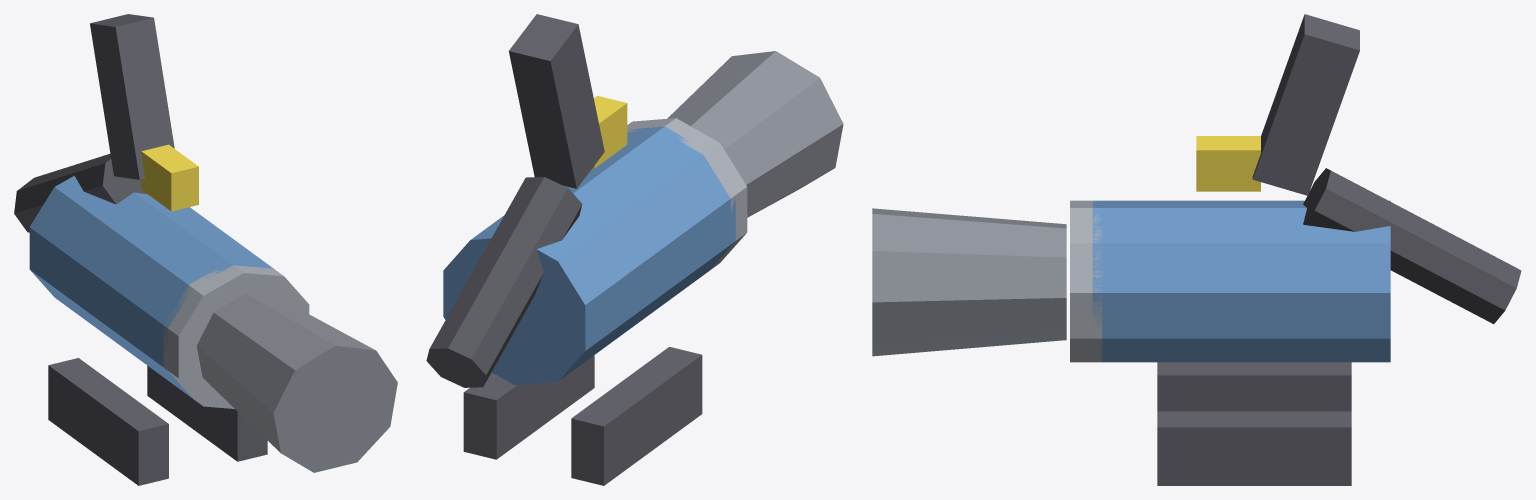
Rendered from vacuum.glb.
The picture shows the model from 3 angles, left to right: view 1: azimuth 30°, elevation 25°; view 2: azimuth 150°, elevation 25°; view 3: azimuth 270°, elevation 25°; orthographic projection. The views are drawn at different scales.
Parts seen in each view (by area): view 1: vacuum; view 2: vacuum; view 3: vacuum.
Part boxes in pixels (box(x1,y1,x2,y2)): vacuum: box(14, 14, 397, 485); vacuum: box(426, 14, 843, 485); vacuum: box(872, 14, 1521, 485).
Size of the model in its own units: 0.25 by 0.7275 by 1.
